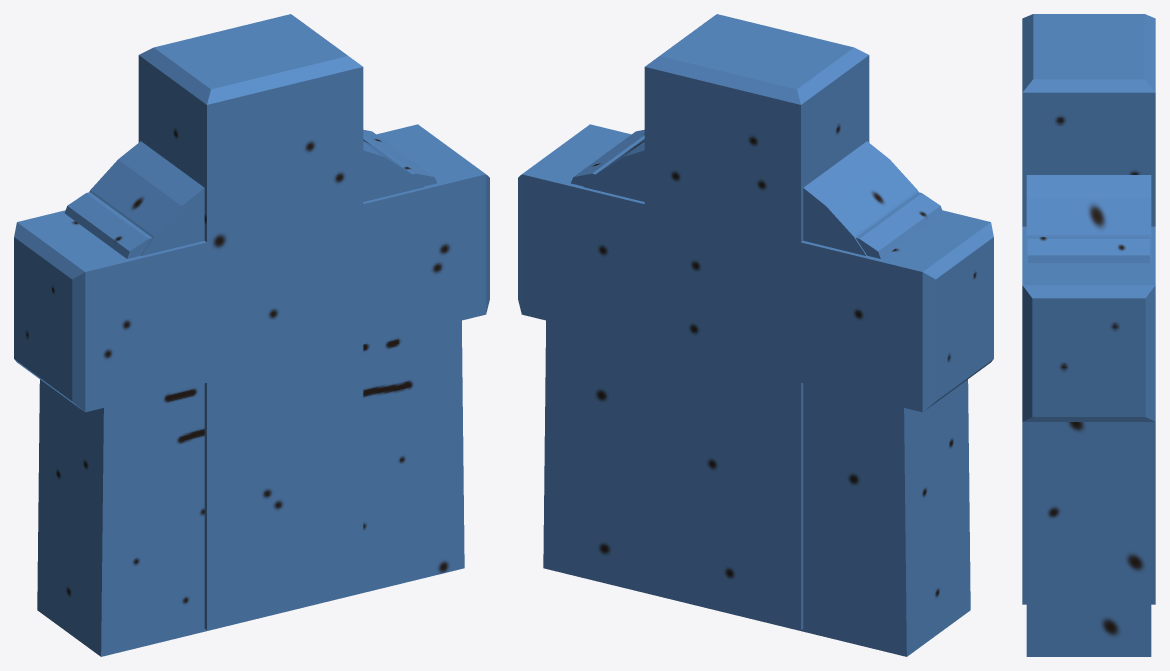
File: Lapids.fbx
3 views of the same model, side by side, from view 1: azimuth 30°, elevation 25°; view 2: azimuth 150°, elevation 25°; view 3: azimuth 270°, elevation 25° (orthographic). The views are drawn at different scales.
Parts seen in each view (by area): view 1: CrossTomb, CurveTomb, SquareTomb; view 2: CrossTomb, CurveTomb, SquareTomb; view 3: CrossTomb, CurveTomb, SquareTomb.
Part boxes in pixels (box(x1,y1,x2,y2)): CrossTomb: box(14, 14, 489, 629); CurveTomb: box(37, 139, 464, 656); SquareTomb: box(64, 129, 436, 258); CrossTomb: box(518, 14, 993, 629); CurveTomb: box(543, 139, 970, 656); SquareTomb: box(571, 129, 943, 258); CrossTomb: box(1022, 14, 1155, 604); CurveTomb: box(1026, 175, 1151, 656); SquareTomb: box(1028, 236, 1149, 263).
Size of the model in its own units: 47.45 by 13.44 by 58.35.
